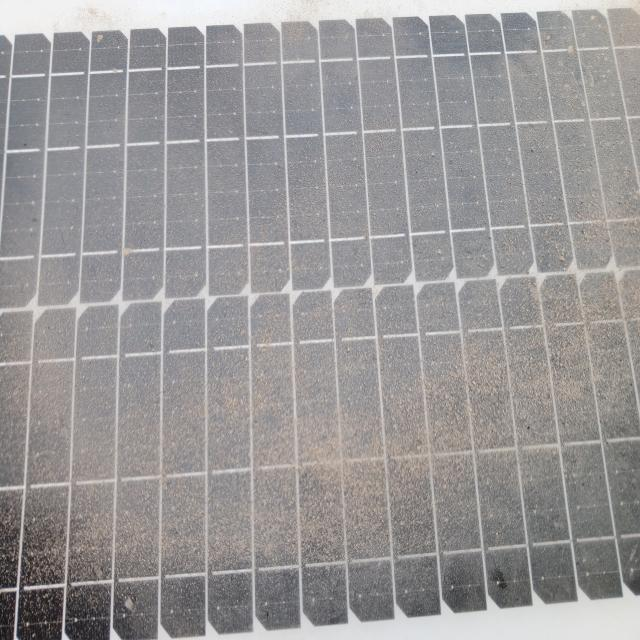Surface Contaminant: (5, 37, 637, 621)
